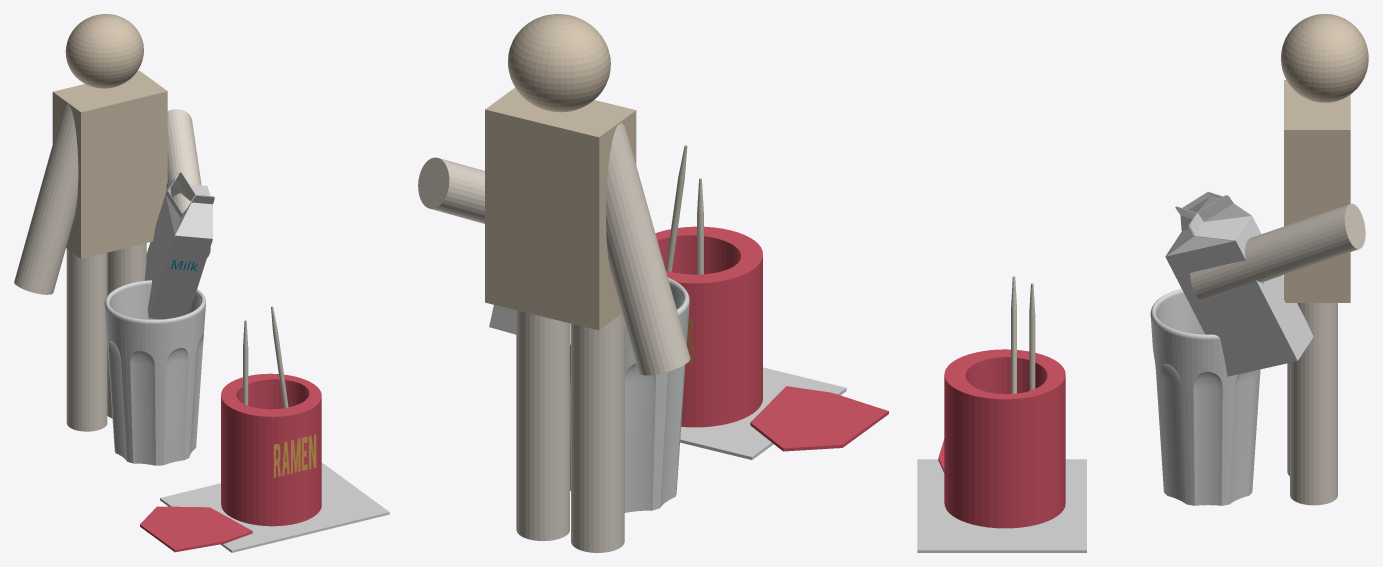
Rendered from Edgar R Ramen Noodles with Water.glb.
3 views of the same model, side by side, from view 1: azimuth 30°, elevation 25°; view 2: azimuth 150°, elevation 25°; view 3: azimuth 270°, elevation 25° (orthographic). The views are drawn at different scales.
Visible parts, largest first — view 1: Mesh_Mesh_head_geo.001_lambert2SG.001; view 2: Mesh_Mesh_head_geo.001_lambert2SG.001; view 3: Mesh_Mesh_head_geo.001_lambert2SG.001.
Boxes of the visible parts, x1,y1,x2,y2 form: Mesh_Mesh_head_geo.001_lambert2SG.001: (14,14,389,552); Mesh_Mesh_head_geo.001_lambert2SG.001: (418,14,888,552); Mesh_Mesh_head_geo.001_lambert2SG.001: (917,14,1368,552).
Bounding box in the file's own units: 0.092 × 0.171 × 0.149.
